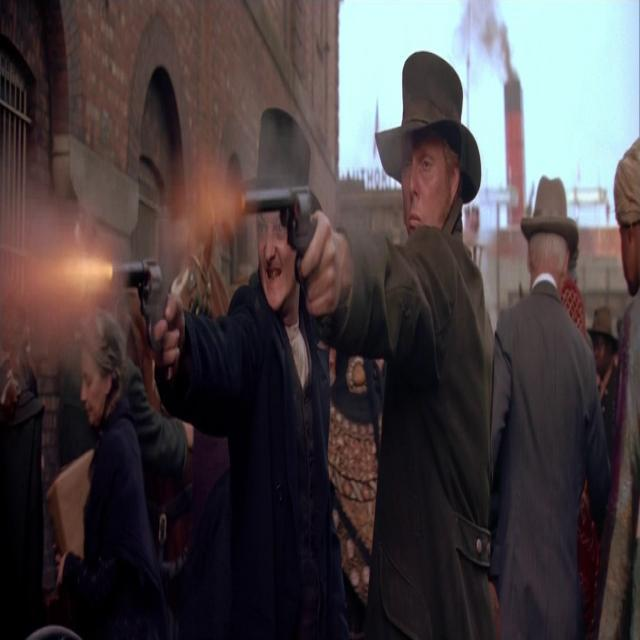gun-knife-thesis - v11 Yolov5 augmented: (232, 157, 332, 327), (110, 234, 176, 366)
